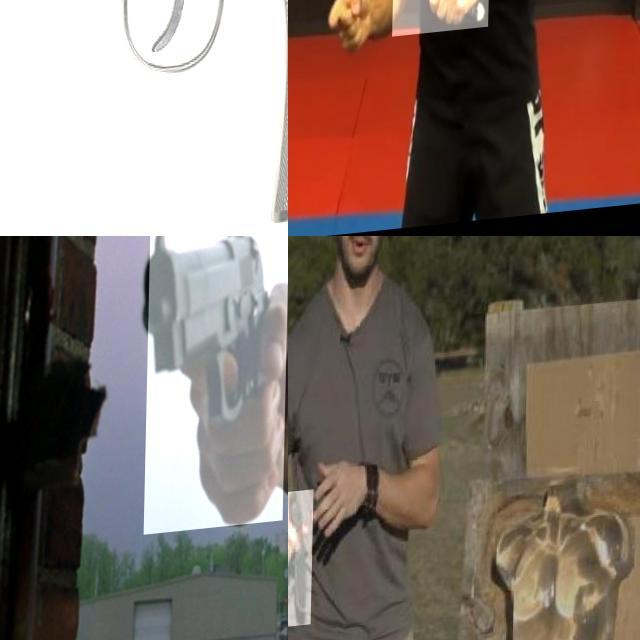-: (394, 0, 491, 43), (288, 494, 315, 633)
gun-knife-thesis - v11 Yolov5 augmented: (0, 0, 288, 236), (145, 236, 288, 539)
